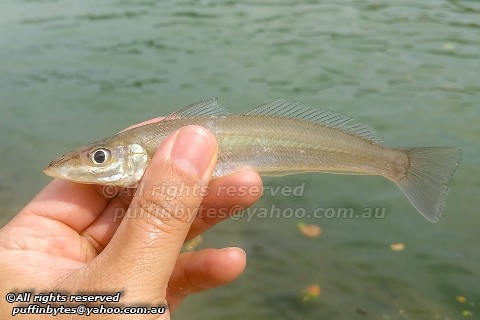kiss: (47, 97, 462, 223)
